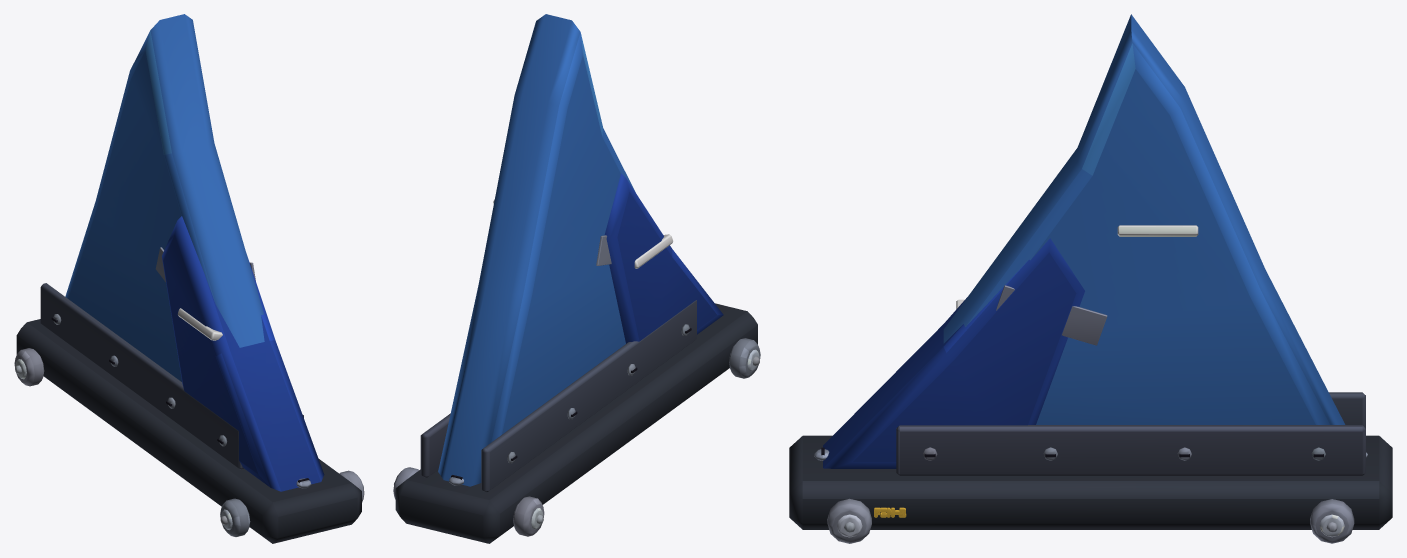
Rendered from SM_Station_FinGlider_Fin.fbx.
3 renders of one model, left to right at view 1: azimuth 30°, elevation 25°; view 2: azimuth 150°, elevation 25°; view 3: azimuth 270°, elevation 25°, orthographic. The views are drawn at different scales.
Visible parts, largest first — view 1: SM_Station_FinGlider_Fin; view 2: SM_Station_FinGlider_Fin; view 3: SM_Station_FinGlider_Fin.
Part boxes in pixels (x1,y1,x2,y2): SM_Station_FinGlider_Fin: (14,14,364,543); SM_Station_FinGlider_Fin: (393,14,760,543); SM_Station_FinGlider_Fin: (789,14,1392,543).
Bounding box in the file's own units: 28.45 × 80.35 × 90.05.
